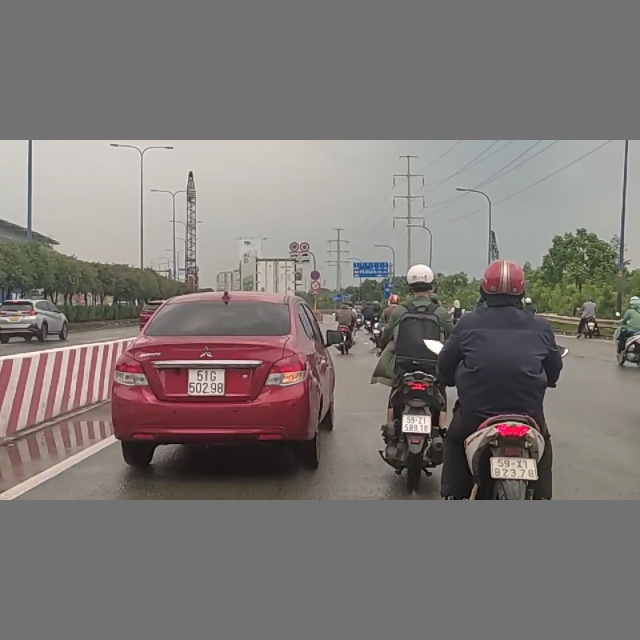P.130: (310, 270, 321, 280)
